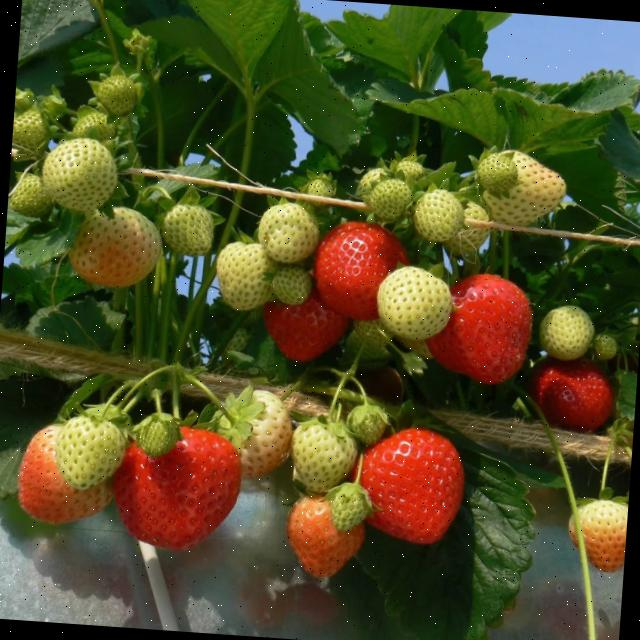Ripe Strawberry: (107, 422, 245, 554), (351, 424, 466, 548), (428, 270, 536, 387), (311, 218, 411, 324), (256, 273, 350, 363), (529, 364, 618, 432)
